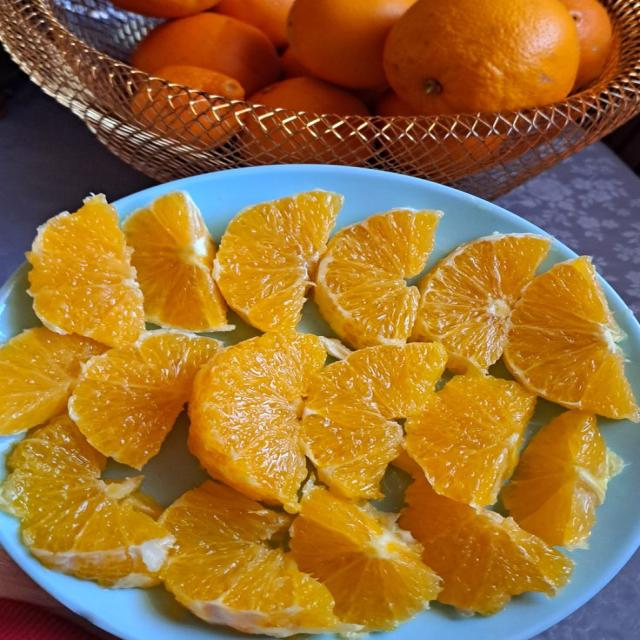orange: (160, 481, 359, 637), (0, 415, 173, 588), (188, 332, 326, 512), (399, 475, 573, 614), (300, 344, 446, 499), (504, 257, 639, 422), (384, 0, 579, 114), (291, 484, 440, 630), (69, 330, 219, 469), (413, 234, 551, 372), (214, 190, 343, 331), (314, 209, 442, 348), (27, 195, 144, 347), (405, 376, 535, 506), (502, 411, 622, 548), (123, 192, 233, 332), (132, 13, 279, 95), (0, 327, 106, 435), (240, 77, 373, 163), (288, 0, 414, 88), (131, 65, 244, 148), (380, 119, 503, 182), (560, 0, 612, 90), (215, 0, 293, 48), (114, 0, 219, 18), (280, 47, 313, 78)
